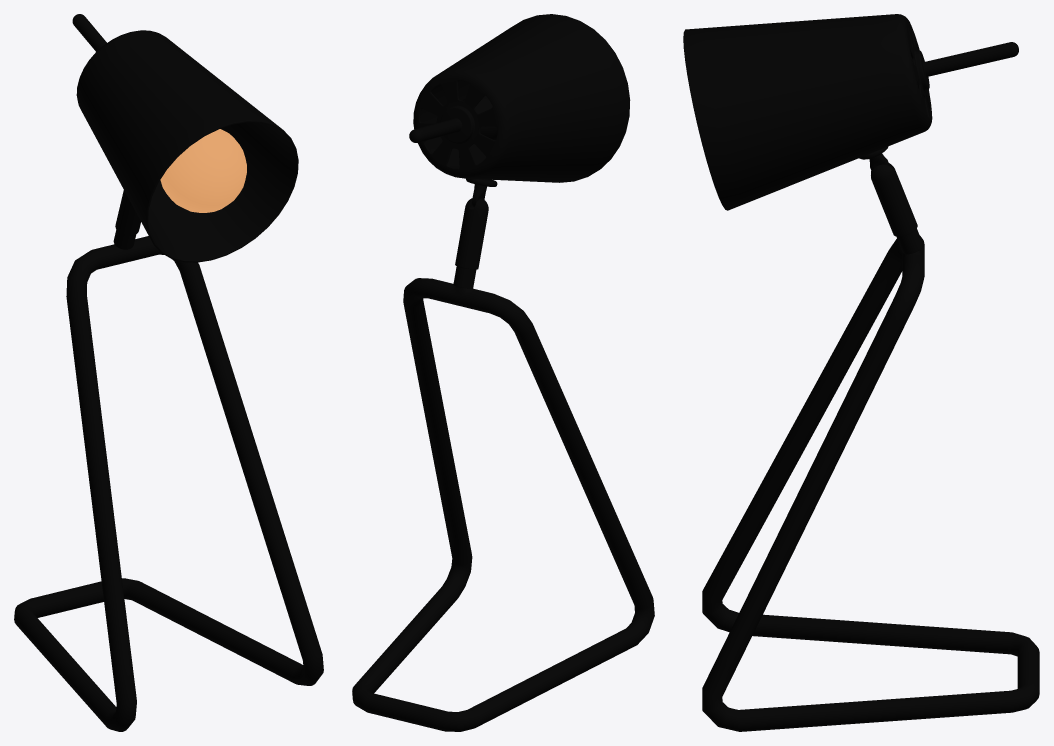
Rendered from Lamp.fbx.
3 views of the same model, side by side, from view 1: azimuth 30°, elevation 25°; view 2: azimuth 150°, elevation 25°; view 3: azimuth 270°, elevation 25° (orthographic). The views are drawn at different scales.
Parts seen in each view (by area): view 1: Table; view 2: Table; view 3: Table.
Boxes of the visible parts, <box> form: Table: <box>14,14,323,731</box>; Table: <box>352,14,654,731</box>; Table: <box>683,14,1039,731</box>.
Bounding box in the file's own units: 12.17 × 35.01 × 17.04.
